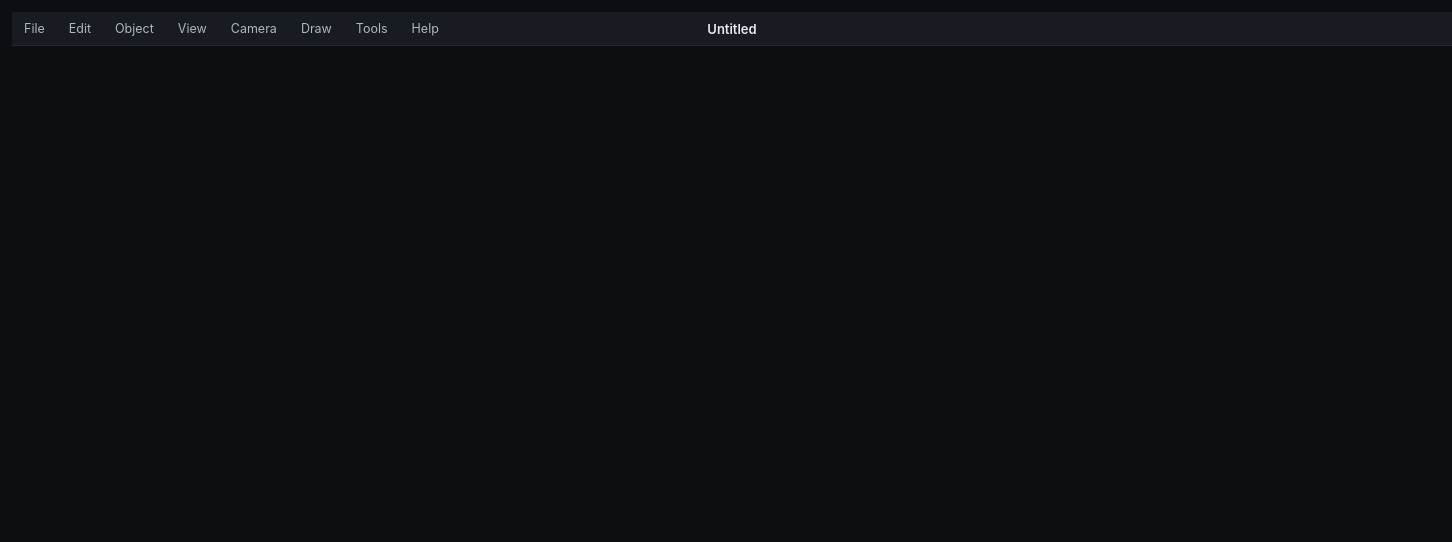
Test case: MenuBar › shows a checkmark next to the active tool in the Tools menu
Click the button "Tools" at (372, 28), box top-left (344, 12), bottom-right (400, 45)
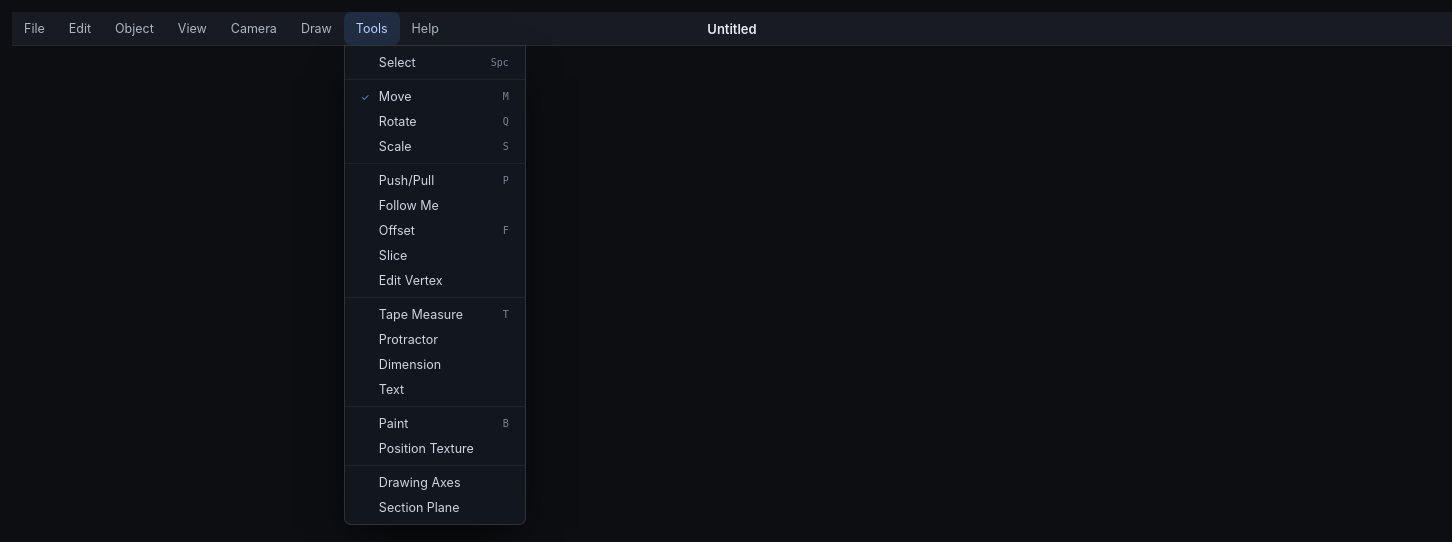
Check: the text "Move" shows "✓", box top-left (361, 90), bottom-right (370, 102)
